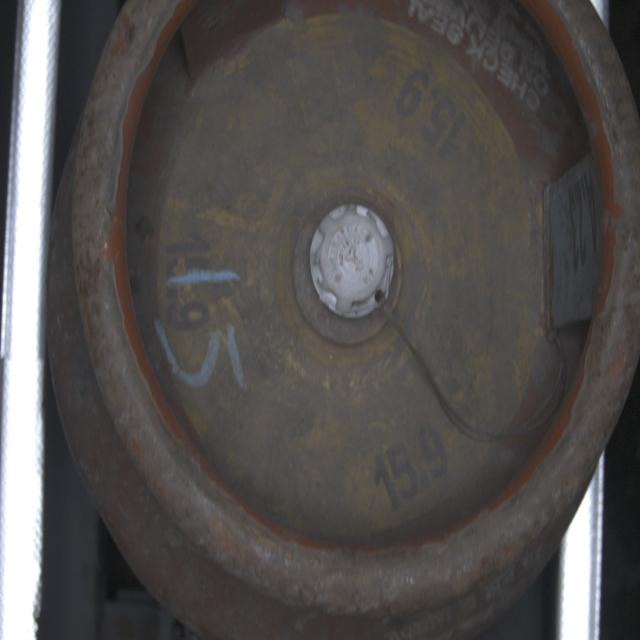Cap: (309, 199, 396, 325)
